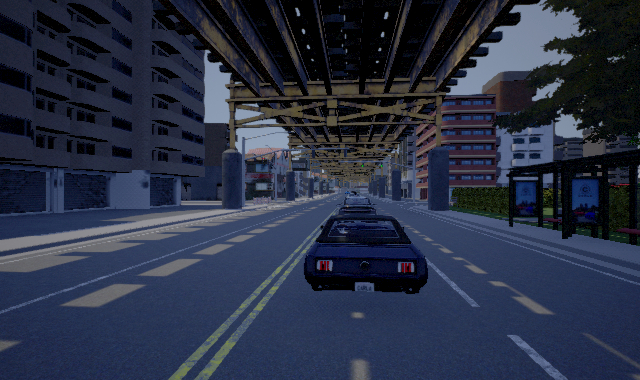traffic_light: (381, 162, 383, 167), (362, 162, 364, 167)
vehicle: (304, 213, 428, 294), (337, 195, 377, 215)
